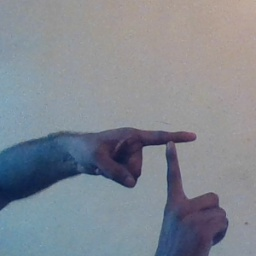T: (112, 116, 230, 230)
